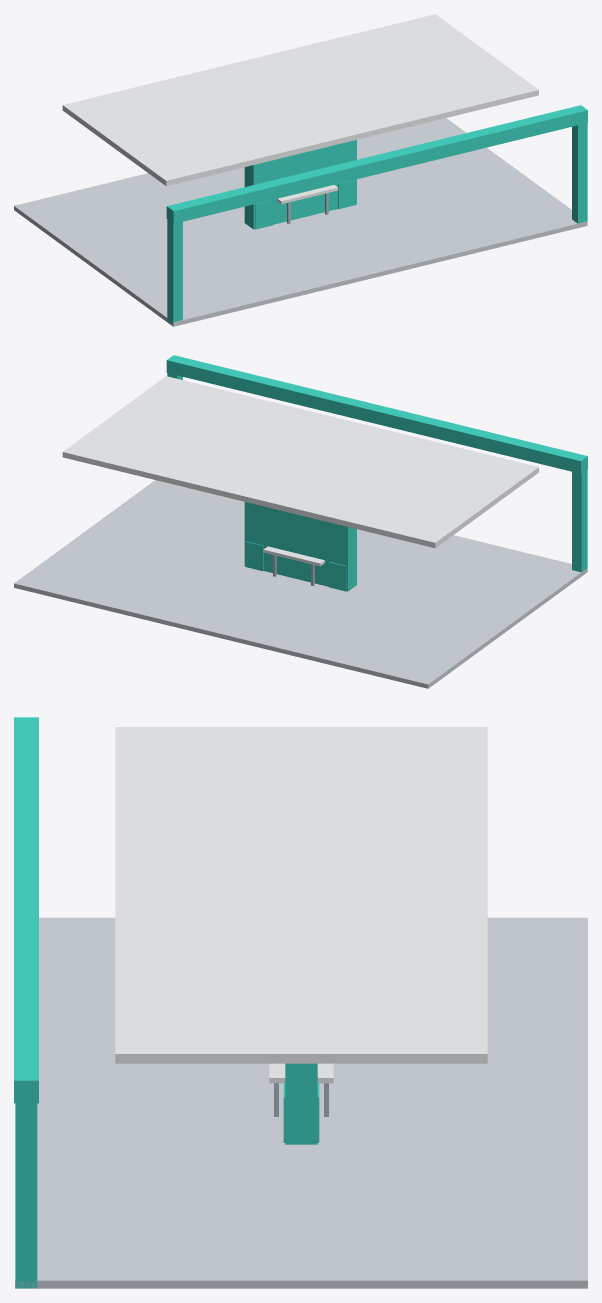
The picture shows the model from 3 angles, top to bottom: view 1: azimuth 30°, elevation 25°; view 2: azimuth 150°, elevation 25°; view 3: azimuth 270°, elevation 25°; orthographic projection. The views are drawn at different scales.
Parts seen in each view (by area): view 1: Exhibition Booth Concept; view 2: Exhibition Booth Concept; view 3: Exhibition Booth Concept.
Boxes of the visible parts, left/top/right/bottom form: Exhibition Booth Concept: left=14, top=14, right=587, bottom=326; Exhibition Booth Concept: left=14, top=355, right=587, bottom=688; Exhibition Booth Concept: left=14, top=717, right=587, bottom=1288.
Size of the model in its own units: 12 by 3.34 by 8.01.
